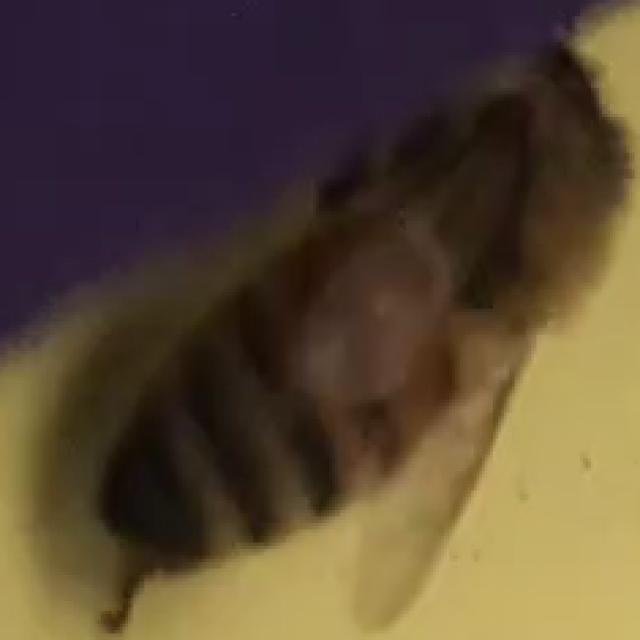honeybee: (49, 57, 622, 606)
